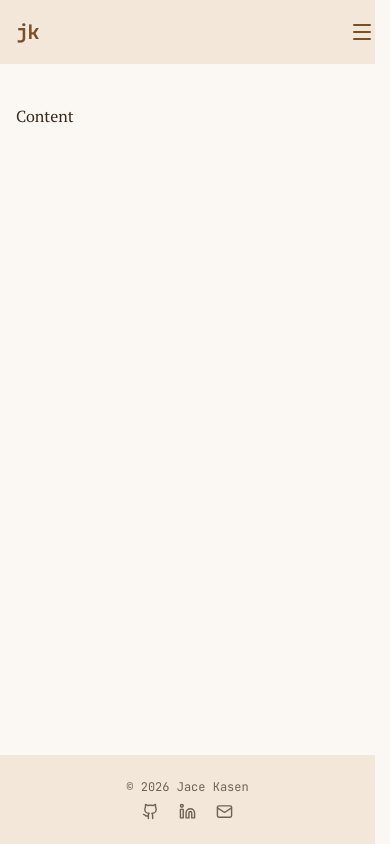
it: Shell Component › opens the mobile menu when toggle is clicked
Click the button with test id "mobile-menu-toggle" at (362, 32), box [350,20,374,44]
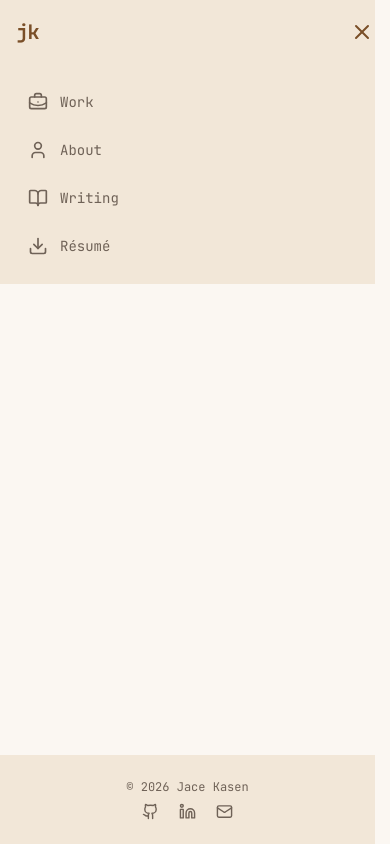
Expected: the element with test id "mobile-menu" is shown, [0,64,389,284]
